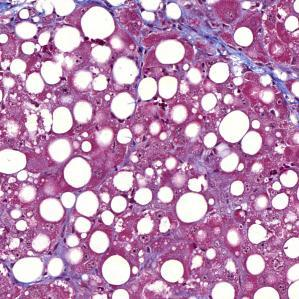fibrosis: (185, 17, 238, 64)
